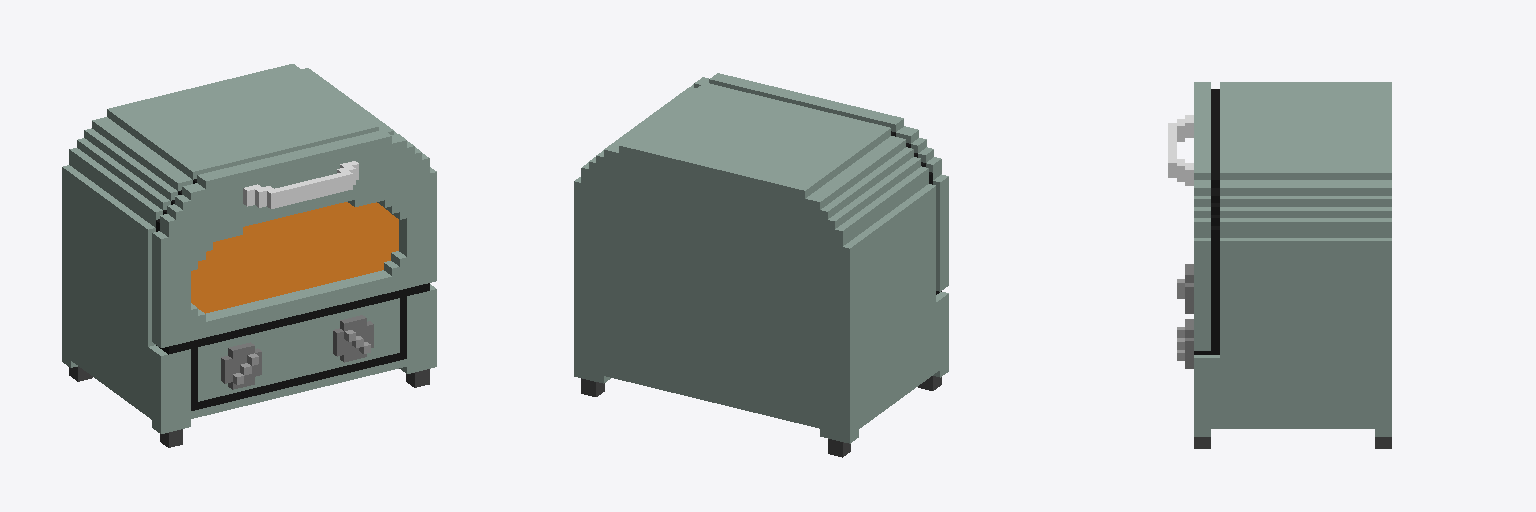
3 views of the same model, side by side, from view 1: azimuth 30°, elevation 25°; view 2: azimuth 150°, elevation 25°; view 3: azimuth 270°, elevation 25° (orthographic).
Visible parts, largest first — view 1: object 1; view 2: object 1; view 3: object 1.
Boxes of the visible parts, x1=… form: object 1: x1=62, y1=64, x2=436, y2=447; object 1: x1=574, y1=73, x2=948, y2=457; object 1: x1=1168, y1=82, x2=1391, y2=448.
Bounding box in the file's own units: 3.7 × 3.3 × 2.6.
1 materials, 1 textured.